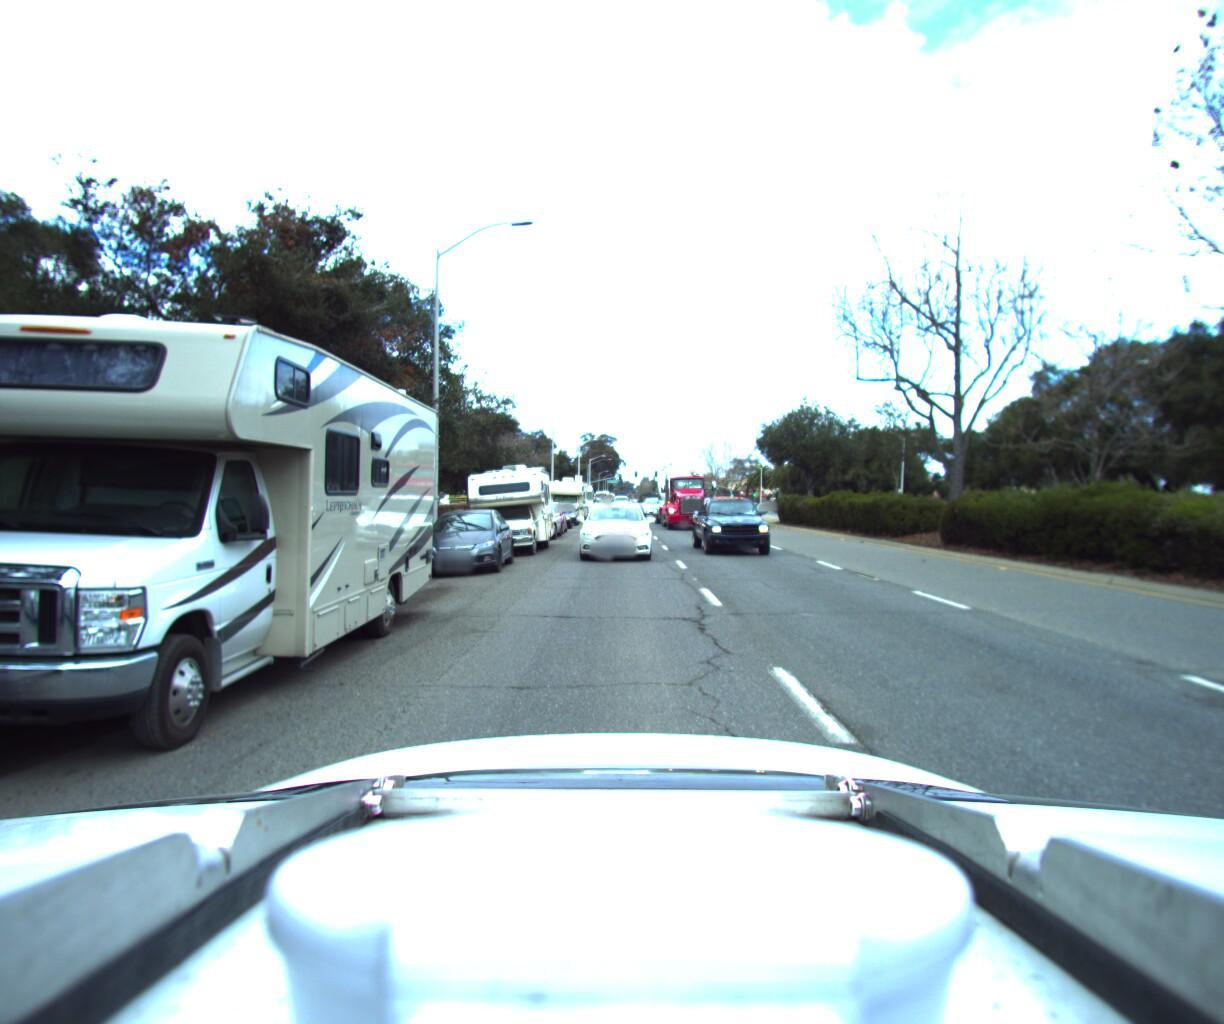car: (410, 498, 515, 577), (689, 485, 782, 557), (570, 490, 652, 557), (506, 496, 559, 538), (546, 495, 577, 521), (636, 491, 658, 511)
other_vehicle: (0, 177, 446, 819), (448, 449, 554, 558), (540, 468, 588, 516), (560, 475, 593, 513)
truck: (649, 447, 712, 530)
